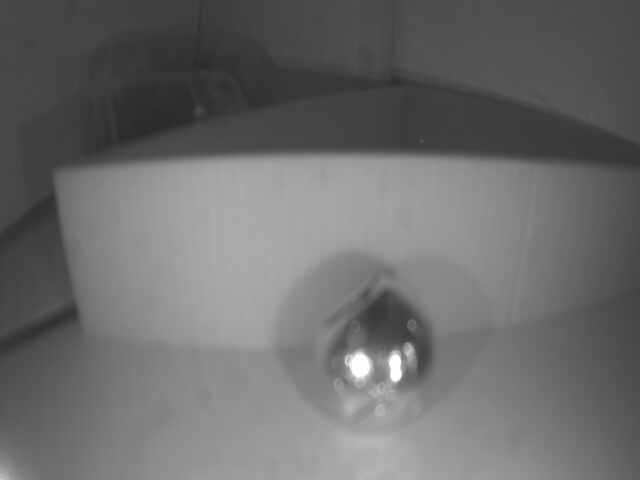Live: (310, 274, 437, 437)
Point: (78, 160, 638, 349)
